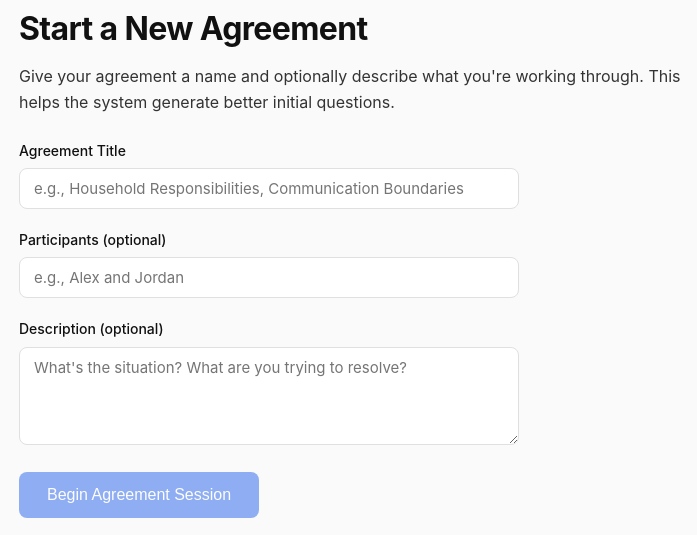
Test: NewAgreement › enables submit when title is entered
Type "Chore Schedule" into the field labelled "Agreement Title" at (269, 188), box [19,168,519,209]
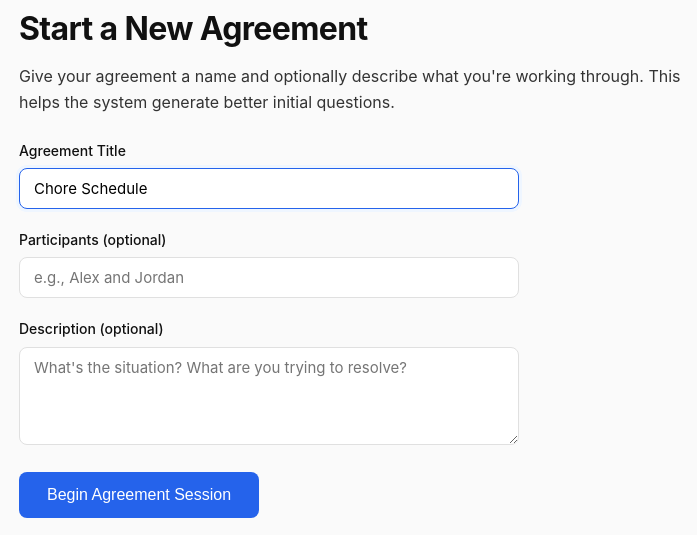
Check: the button "Begin Agreement Session" is enabled, box [19,472,259,518]
